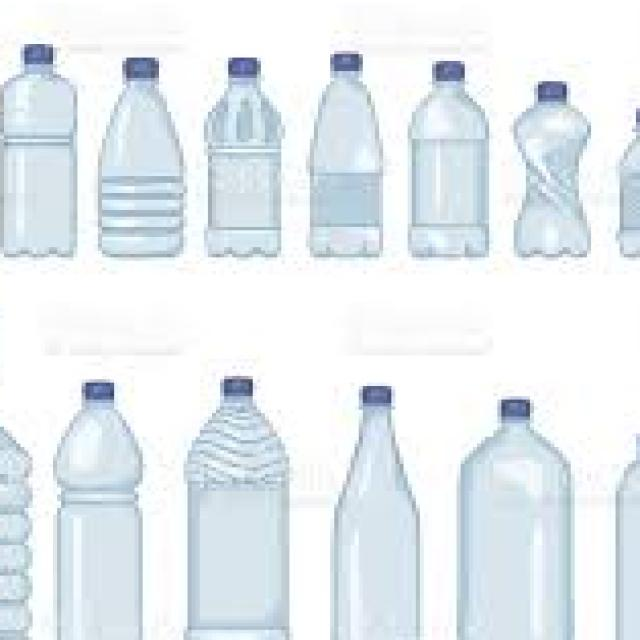organic: (12, 359, 633, 631), (3, 33, 635, 275)
